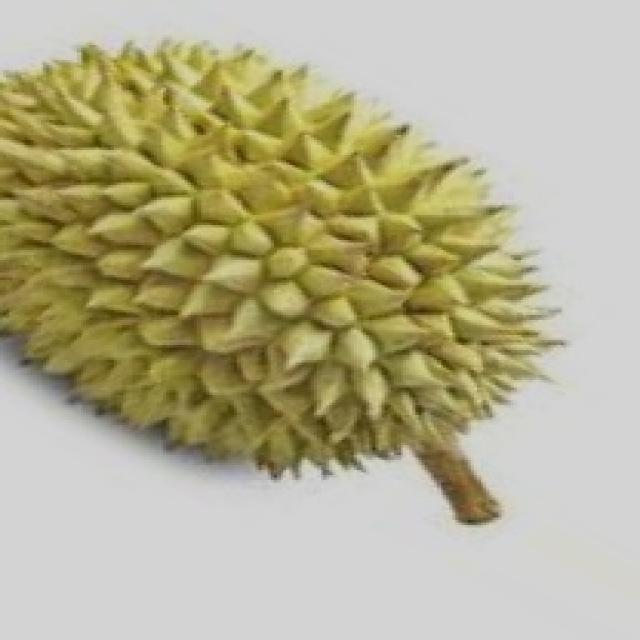fruit: (0, 138, 357, 552)
